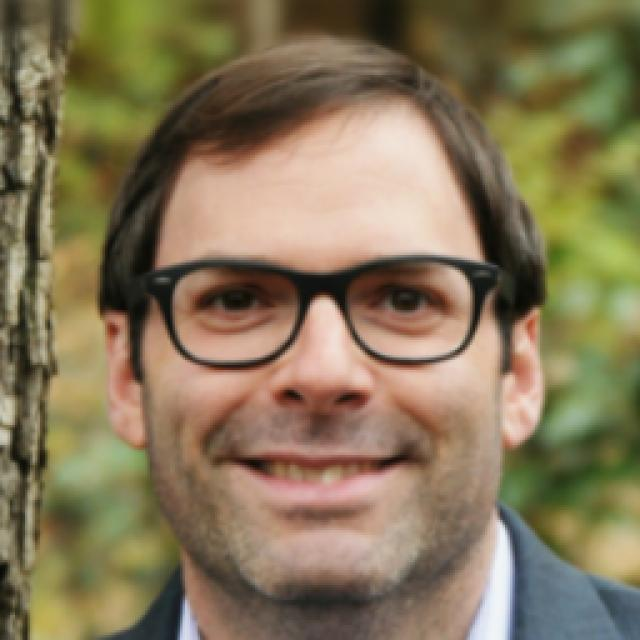glasses: (143, 250, 518, 377)
